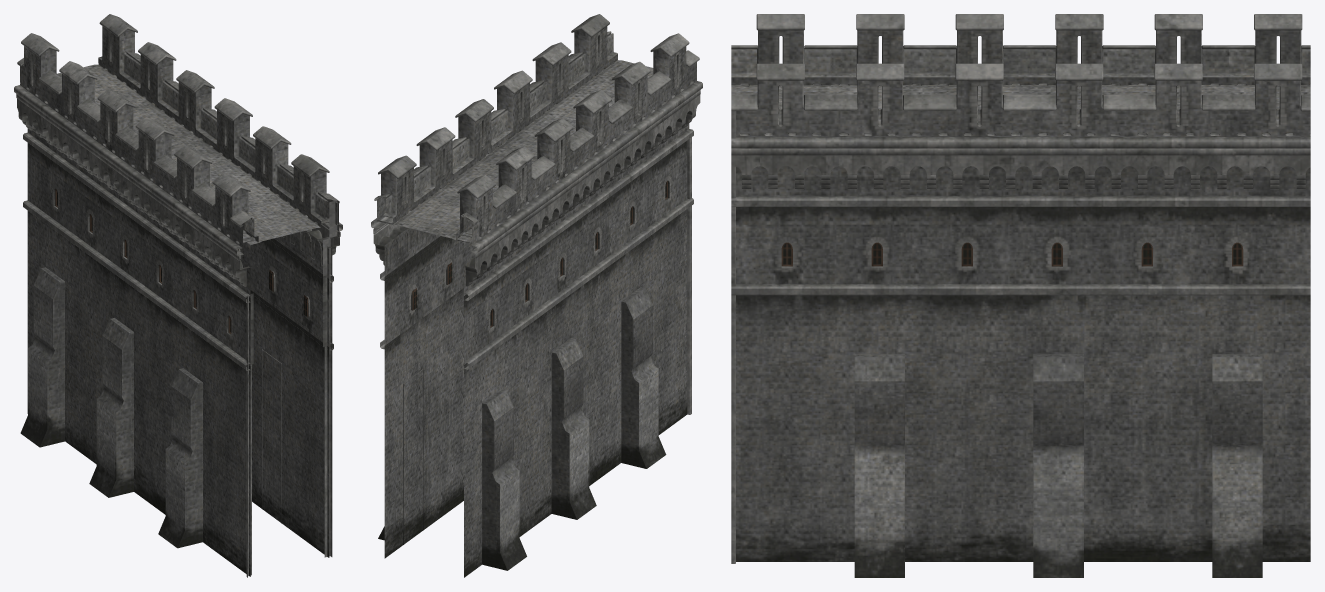
File: Castle_Wall_B_Straight.fbx
3 views of the same model, side by side, from view 1: azimuth 30°, elevation 25°; view 2: azimuth 150°, elevation 25°; view 3: azimuth 270°, elevation 25° (orthographic). The views are drawn at different scales.
Visible parts, largest first — view 1: Castle_Wall_B_Straight; view 2: Castle_Wall_B_Straight; view 3: Castle_Wall_B_Straight.
Part boxes in pixels (left/top/right/bottom): Castle_Wall_B_Straight: left=14, top=14, right=342, bottom=577; Castle_Wall_B_Straight: left=371, top=14, right=702, bottom=577; Castle_Wall_B_Straight: left=731, top=14, right=1310, bottom=577.
Size of the model in its own units: 487 by 1383 by 1457.
